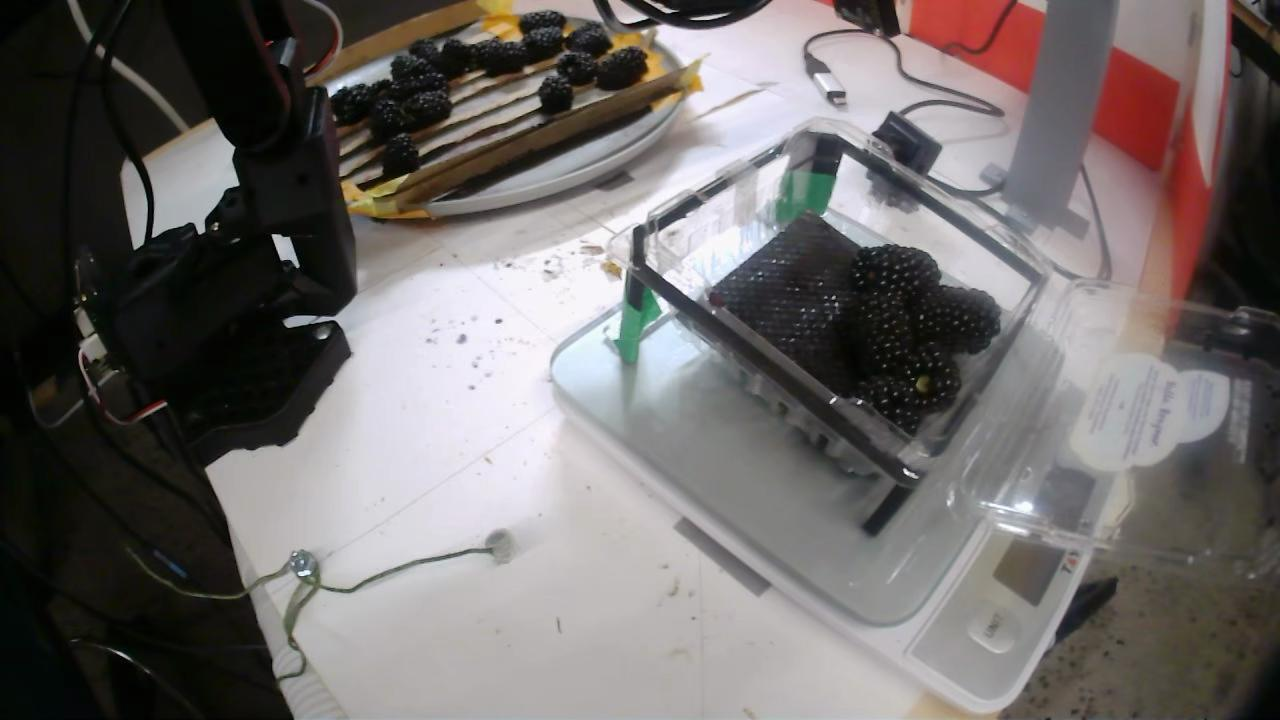berry: (905, 282, 1000, 355), (846, 290, 914, 377), (852, 244, 941, 302), (855, 376, 923, 434), (907, 348, 959, 411), (596, 46, 647, 90), (400, 90, 452, 131), (380, 134, 420, 180), (481, 41, 528, 76), (331, 83, 370, 125), (368, 98, 405, 140), (521, 26, 562, 63), (392, 72, 447, 98), (538, 76, 572, 117), (556, 51, 596, 85), (568, 25, 611, 56), (518, 10, 565, 33), (429, 52, 468, 79), (470, 37, 500, 69), (366, 79, 402, 104), (441, 37, 473, 63), (390, 54, 422, 77), (408, 39, 439, 61), (406, 58, 436, 78)
